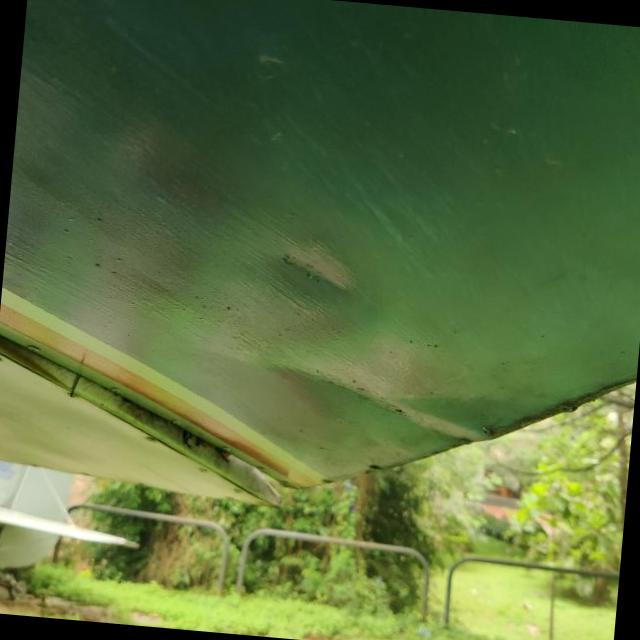Dent: (230, 313, 531, 480), (277, 238, 356, 294)
